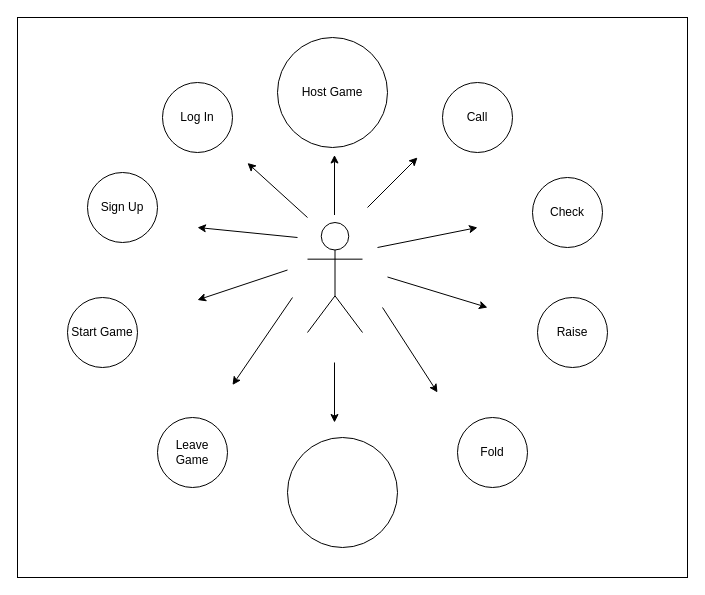
This 705x595 diagram has some shape labels left out. The shapes that lost their labels are listed below. From the top down, each one's box as (x1, y1, x2, y2) in pixels, then its label:
(306, 222, 362, 332): User
(286, 436, 398, 548): Join Game
